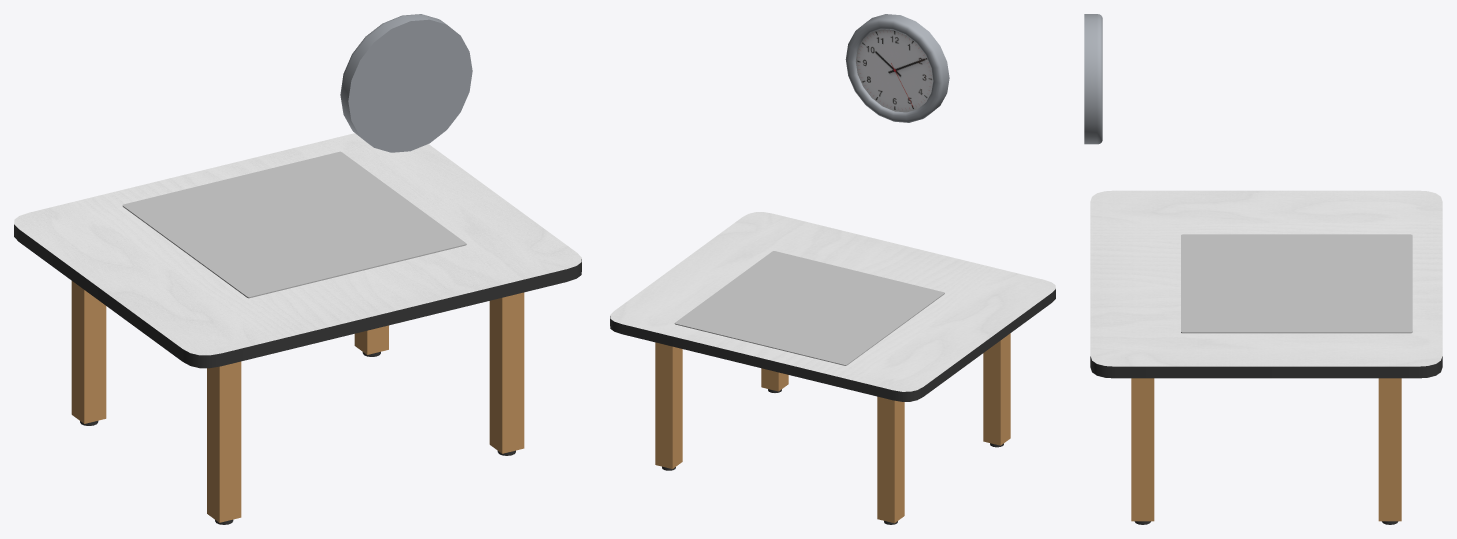
Rendered from Juego_Mesa.FBX.
The picture shows the model from 3 angles, left to right: view 1: azimuth 30°, elevation 25°; view 2: azimuth 150°, elevation 25°; view 3: azimuth 270°, elevation 25°; orthographic projection. The views are drawn at different scales.
Visible parts, largest first — view 1: Mesa, Mapa, Reloj; view 2: Mesa, Mapa, Reloj; view 3: Mesa, Mapa, Reloj.
Boxes of the visible parts, box(x1,y1,x2,y2) form: Mesa: box(14, 133, 581, 524); Mapa: box(122, 151, 466, 298); Reloj: box(340, 14, 472, 152); Mesa: box(610, 212, 1055, 524); Mapa: box(674, 251, 944, 365); Reloj: box(845, 14, 949, 122); Mesa: box(1090, 190, 1442, 524); Mapa: box(1181, 234, 1412, 333); Reloj: box(1084, 14, 1102, 144).
Size of the model in its own units: 225 by 193 by 265.
